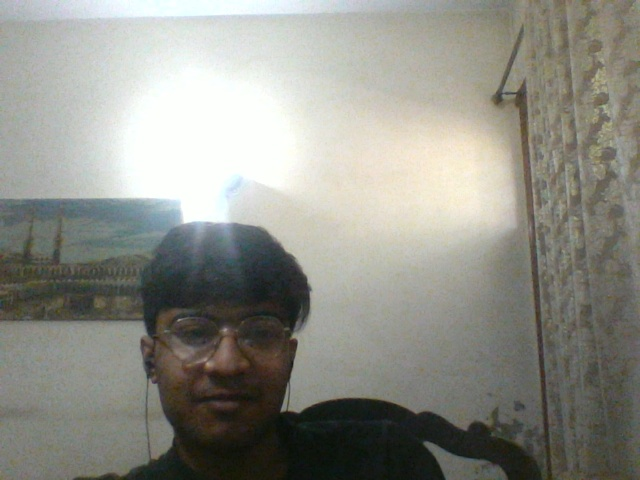neutral: (160, 300, 283, 436)
